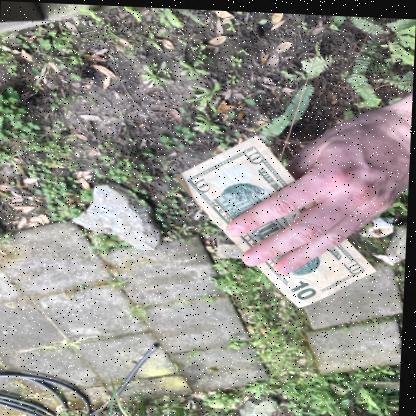ten-back: (173, 132, 378, 306)
